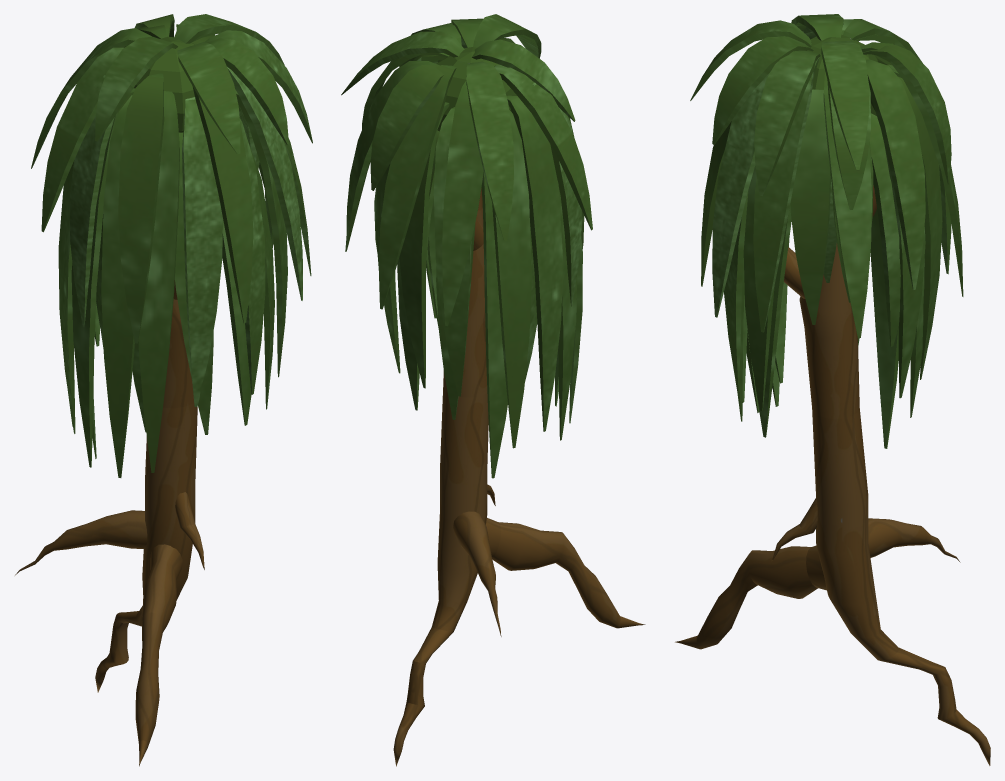
File: CircularTree.fbx
3 views of the same model, side by side, from view 1: azimuth 30°, elevation 25°; view 2: azimuth 150°, elevation 25°; view 3: azimuth 270°, elevation 25° (orthographic). The views are drawn at different scales.
Visible parts, largest first — view 1: OrganicTree:OrganicTree:pCylinder13; view 2: OrganicTree:OrganicTree:pCylinder13; view 3: OrganicTree:OrganicTree:pCylinder13.
Boxes of the visible parts, x1,y1,x2,y2 form: OrganicTree:OrganicTree:pCylinder13: [15, 14, 312, 766]; OrganicTree:OrganicTree:pCylinder13: [341, 14, 645, 766]; OrganicTree:OrganicTree:pCylinder13: [675, 14, 990, 765].
Bounding box in the file's own units: 3.04 × 8.21 × 3.18.
1 material, 1 textured.
